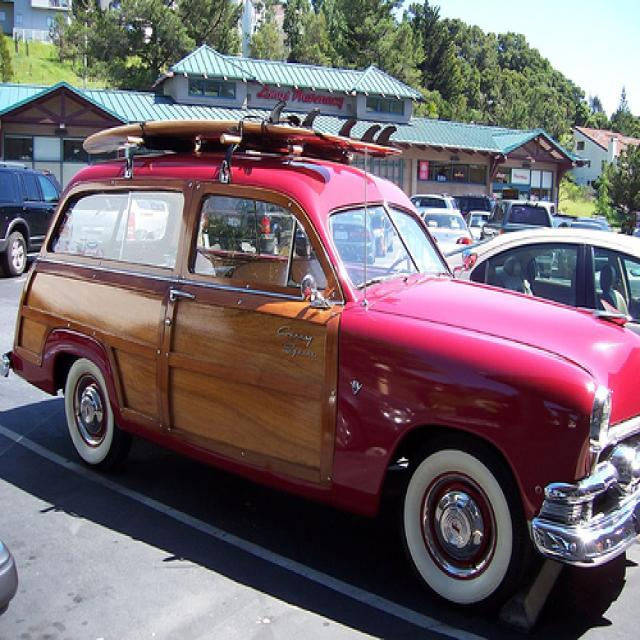Vehicle: (0, 140, 640, 618), (448, 228, 640, 334), (2, 155, 62, 273), (482, 198, 553, 242), (421, 208, 474, 242), (0, 538, 18, 610), (408, 192, 459, 214), (464, 211, 492, 241)
